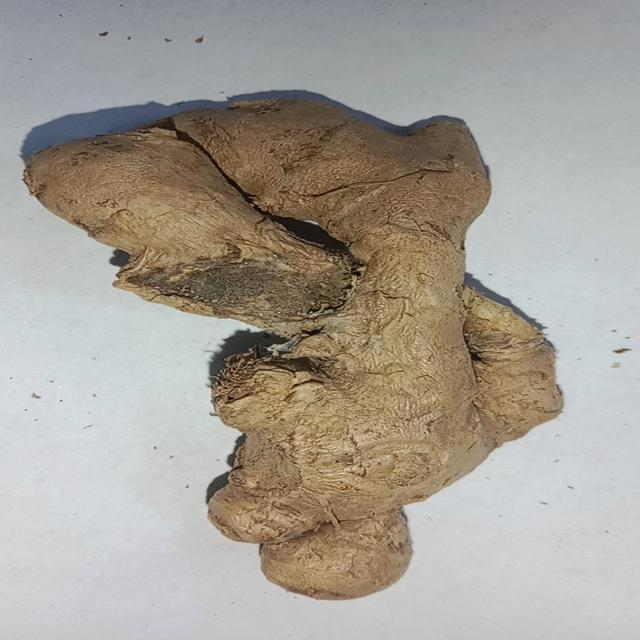ginger: (25, 97, 570, 600)
